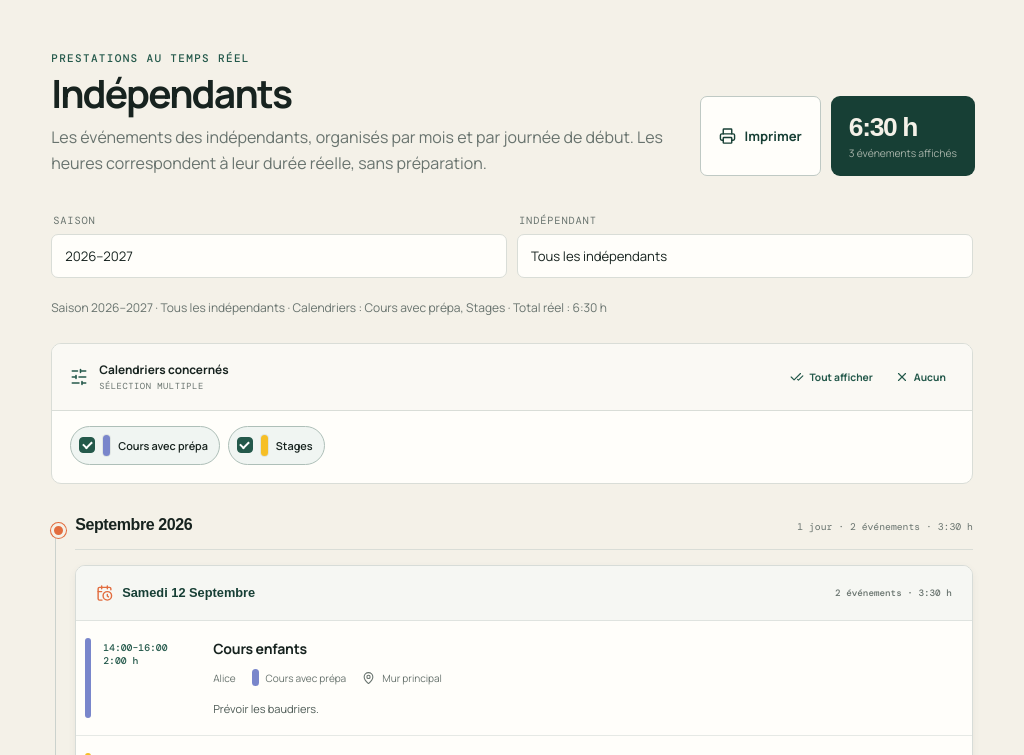
Test: IndependentEventsPage › provides clear guidance when no calendar is selected
The width and height of the screenshot is (1024, 755).
Expected: the heading "Septembre 2026" is shown, [75, 516, 192, 534]
Click the button "Aucun" at coordinates (920, 377), box [887, 359, 954, 395]
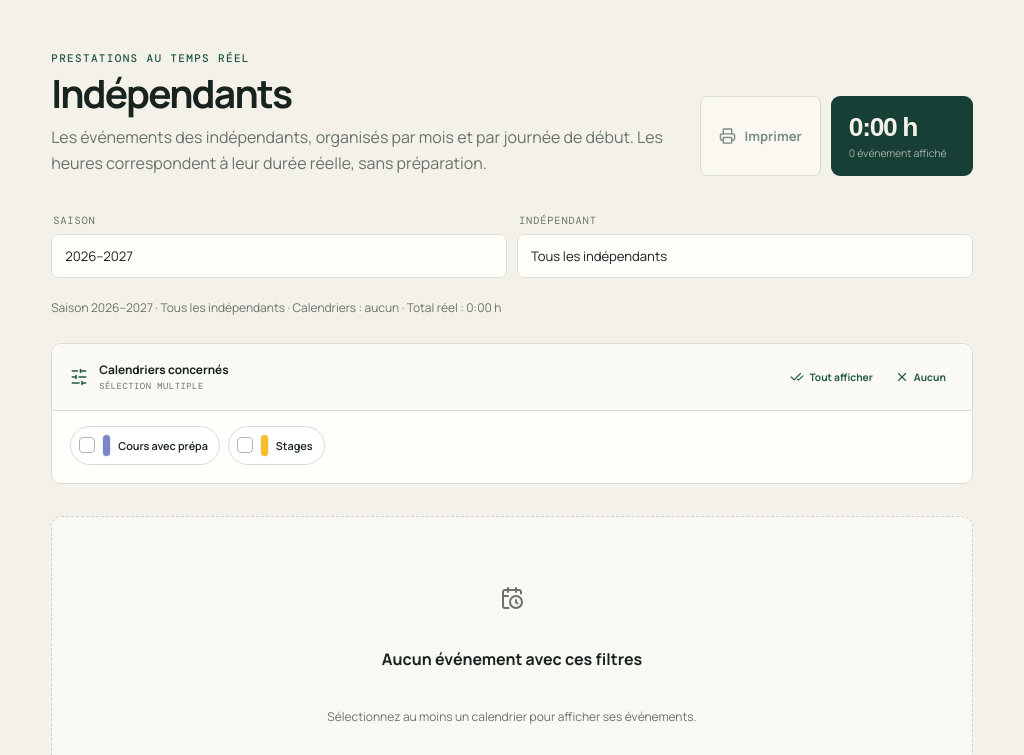
Now the text "Aucun événement avec ces filtres" is shown, box [382, 648, 642, 670]
Now the button "Imprimer" is disabled, box [700, 96, 821, 176]
